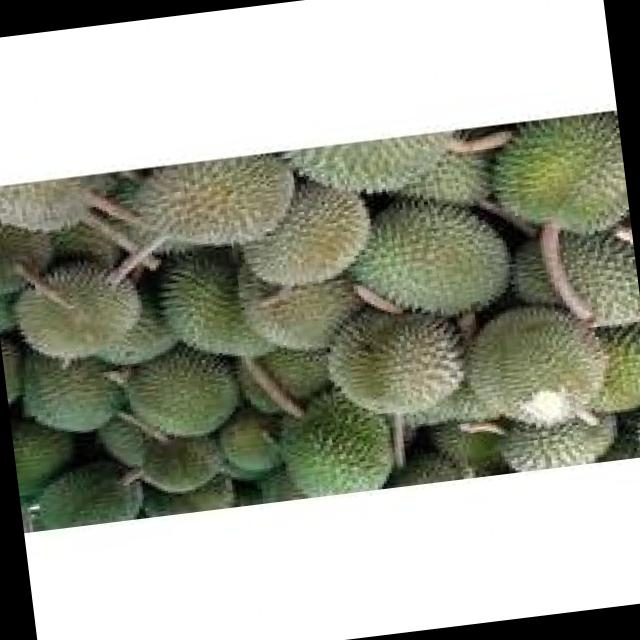fruit: (450, 274, 640, 452), (335, 173, 528, 341), (308, 282, 482, 448), (0, 228, 161, 383), (240, 160, 384, 300), (118, 320, 256, 448)
